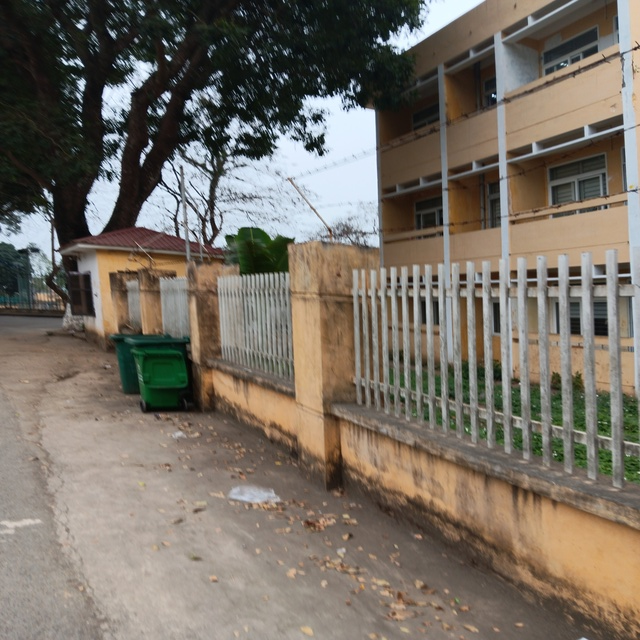thungrac: (133, 347, 198, 423), (111, 332, 168, 399)
